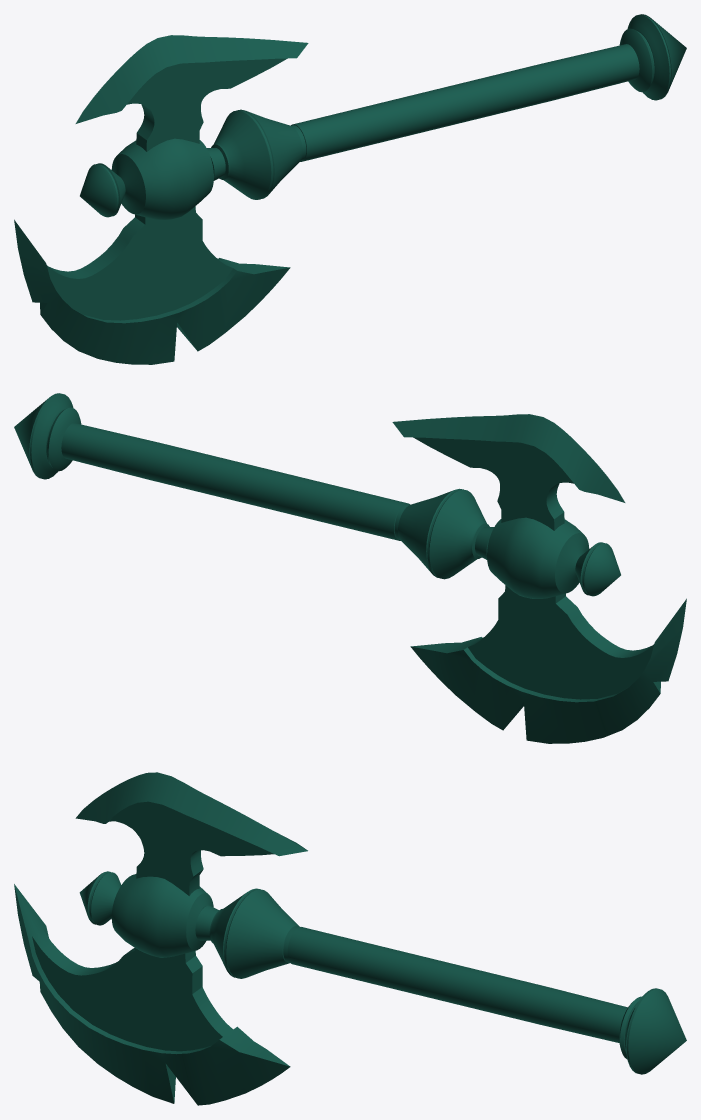
File: AXE 1.fbx
3 renders of one model, top to bottom at view 1: azimuth 30°, elevation 25°; view 2: azimuth 150°, elevation 25°; view 3: azimuth 330°, elevation 25°, orthographic.
Visible parts, largest first — view 1: Circle.001; view 2: Circle.001; view 3: Circle.001.
Boxes of the visible parts, left/top/right/bottom form: Circle.001: left=14, top=14, right=686, bottom=364; Circle.001: left=14, top=393, right=686, bottom=743; Circle.001: left=14, top=772, right=686, bottom=1105.
Size of the model in its own units: 465 by 217 by 58.17.
